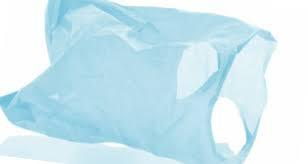Plastic: (0, 0, 288, 163)
